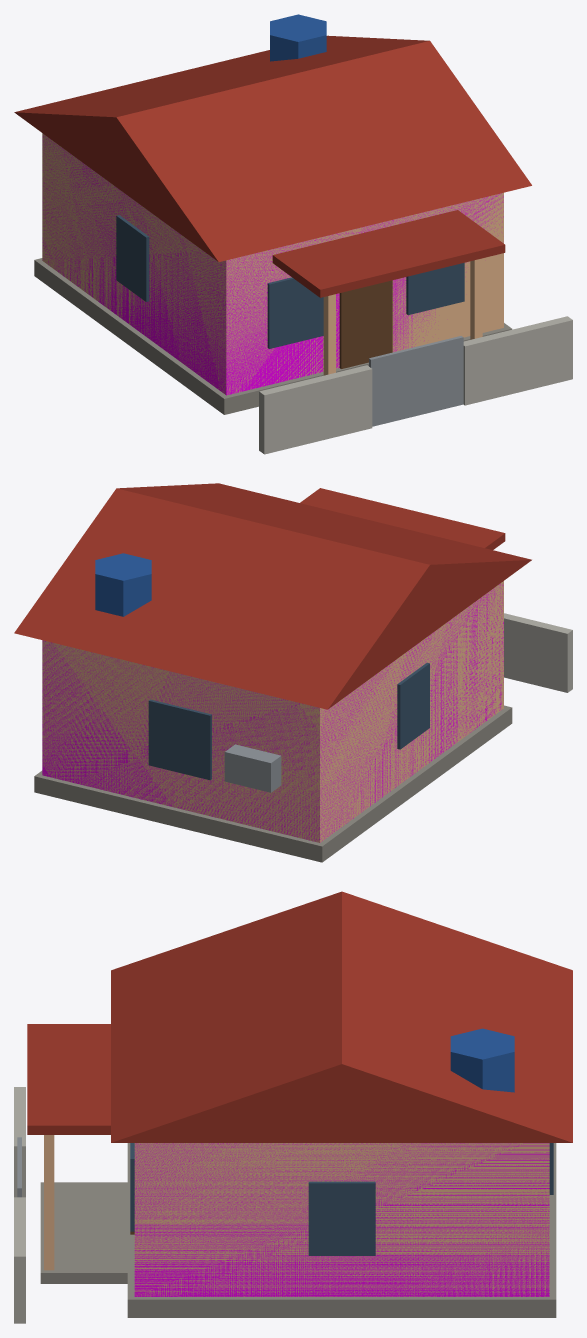
File: House_1S_01.glb
3 views of the same model, one above another, from view 1: azimuth 30°, elevation 25°; view 2: azimuth 150°, elevation 25°; view 3: azimuth 270°, elevation 25° (orthographic). The views are drawn at different scales.
Parts seen in each view (by area): view 1: House_1S_01, House_1S_01_COL; view 2: House_1S_01, House_1S_01_COL; view 3: House_1S_01, House_1S_01_COL.
Boxes of the visible parts, box(x1,y1,x2,y2) form: House_1S_01: box(14, 14, 572, 454); House_1S_01_COL: box(42, 134, 503, 395); House_1S_01: box(14, 483, 572, 862); House_1S_01_COL: box(42, 583, 503, 842); House_1S_01: box(14, 891, 572, 1323); House_1S_01_COL: box(134, 1143, 549, 1296).
Size of the model in its own units: 6.1 by 4.3 by 8.35.
